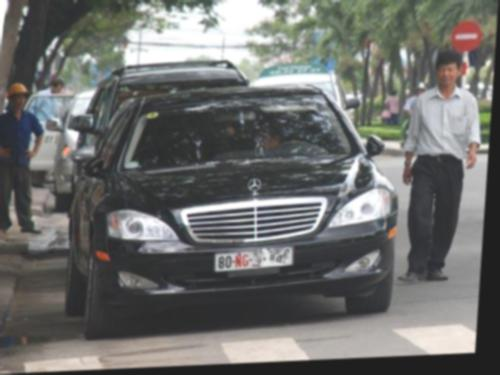License_Plate: (210, 245, 299, 272)
